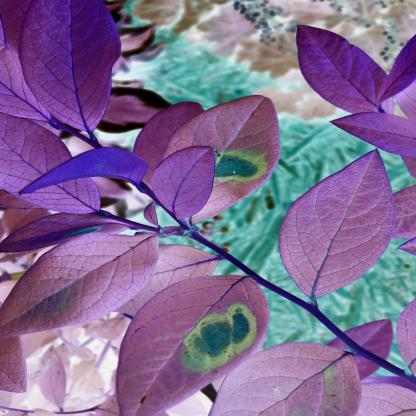Blueberry leaf: (114, 275, 273, 414), (0, 227, 169, 340), (279, 145, 395, 303), (11, 0, 126, 138), (210, 344, 371, 416), (0, 120, 101, 219), (141, 134, 219, 234)
